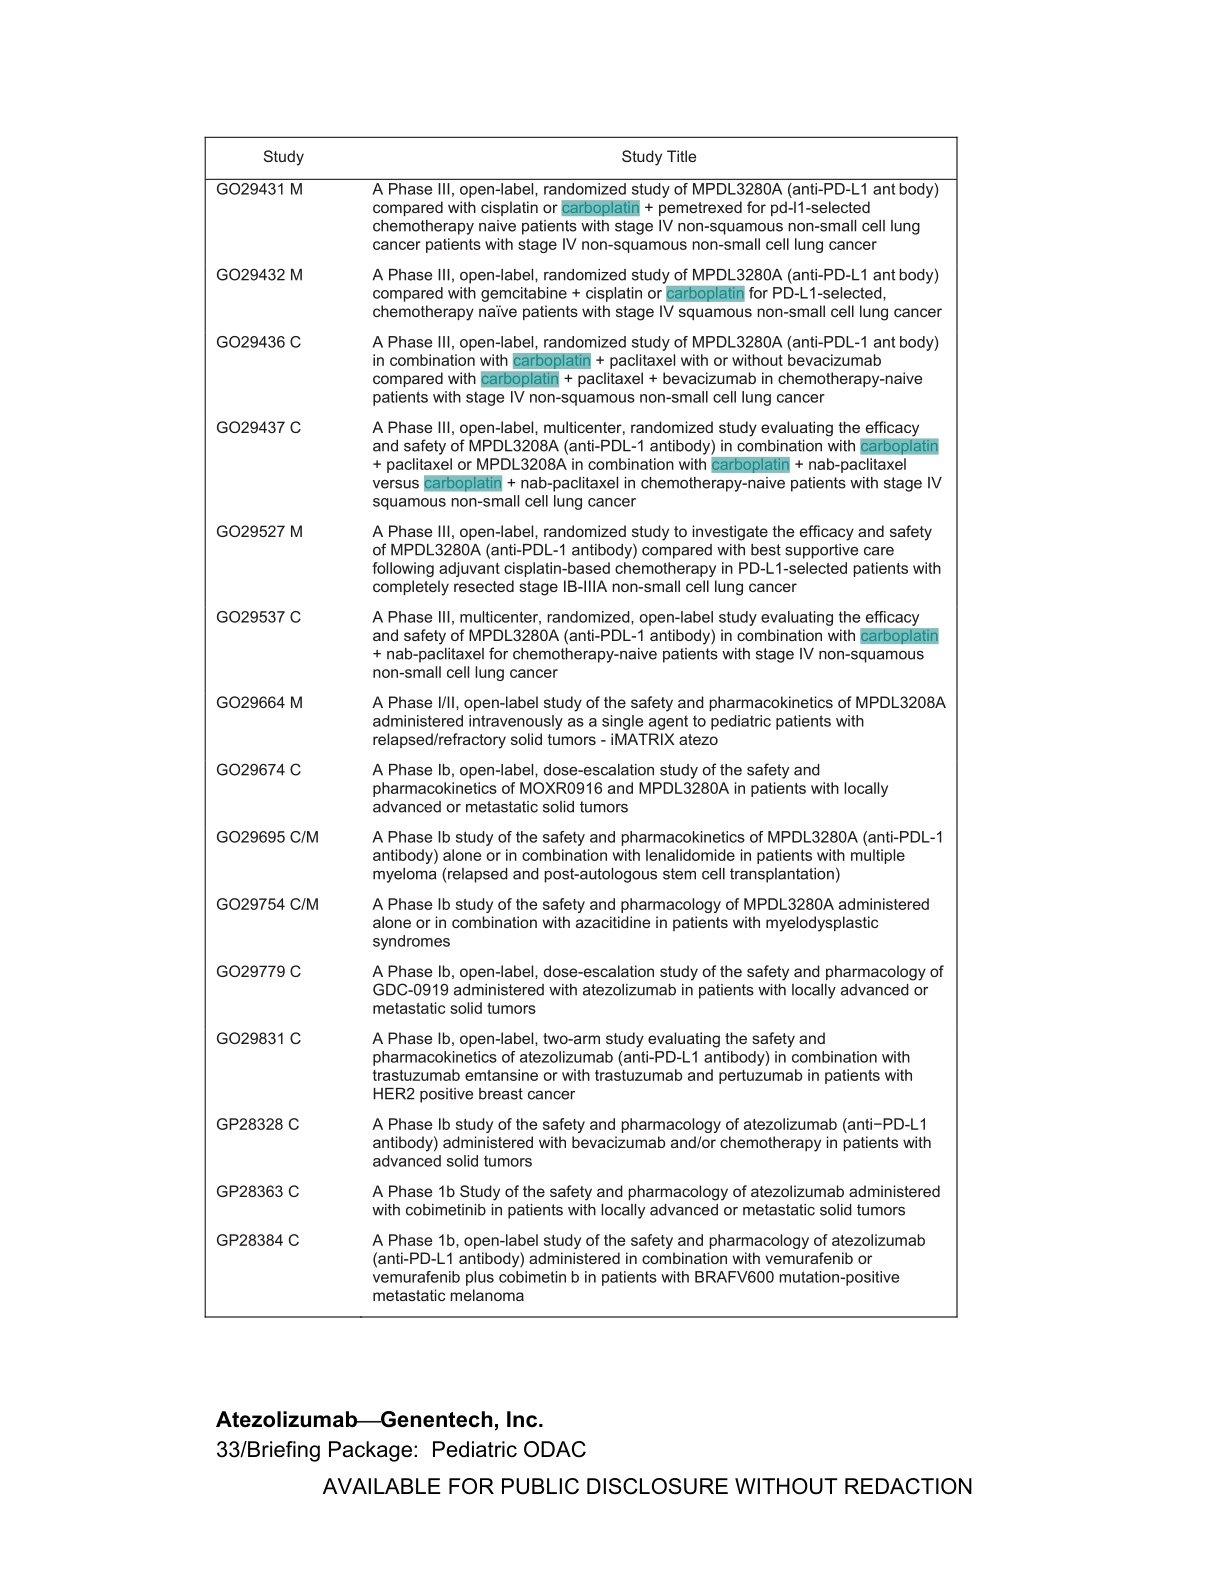partial_lined: (203, 135, 959, 1319)
